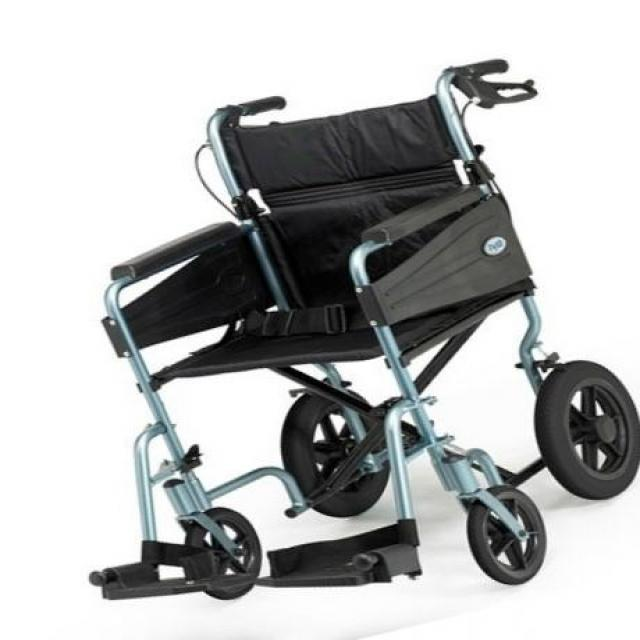wheelchair: (52, 46, 640, 639)
